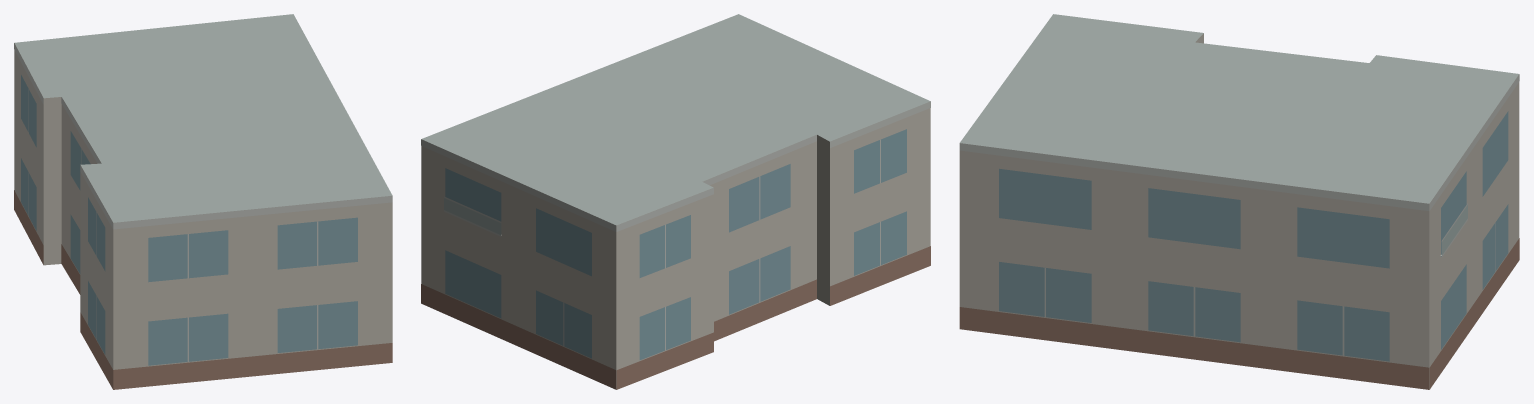
File: survey-upis-32998488.glb
3 views of the same model, side by side, from view 1: azimuth 30°, elevation 25°; view 2: azimuth 150°, elevation 25°; view 3: azimuth 270°, elevation 25° (orthographic). The views are drawn at different scales.
Parts seen in each view (by area): view 1: survey-upis-32998488.tmp; view 2: survey-upis-32998488.tmp; view 3: survey-upis-32998488.tmp.
Part boxes in pixels (left/top/right/bottom): survey-upis-32998488.tmp: left=14, top=14, right=392, bottom=389; survey-upis-32998488.tmp: left=421, top=14, right=930, bottom=389; survey-upis-32998488.tmp: left=959, top=14, right=1519, bottom=389.
Bounding box in the file's own units: 13.35 × 6.1 × 16.64.
